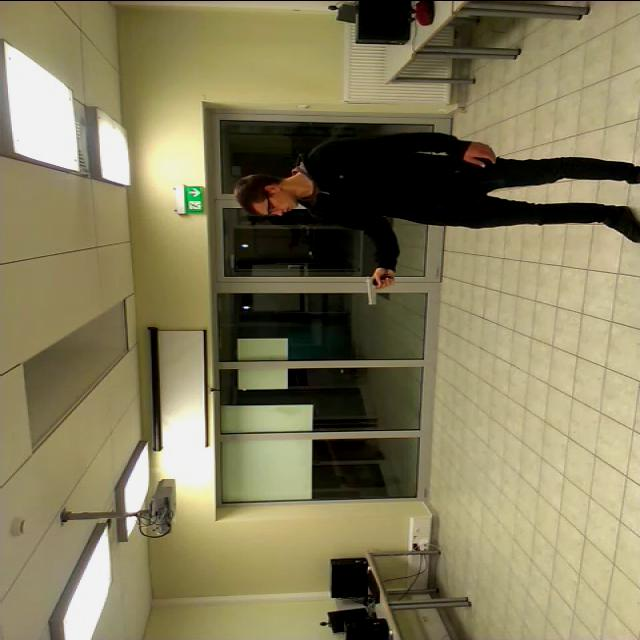handgun: (356, 272, 411, 308)
